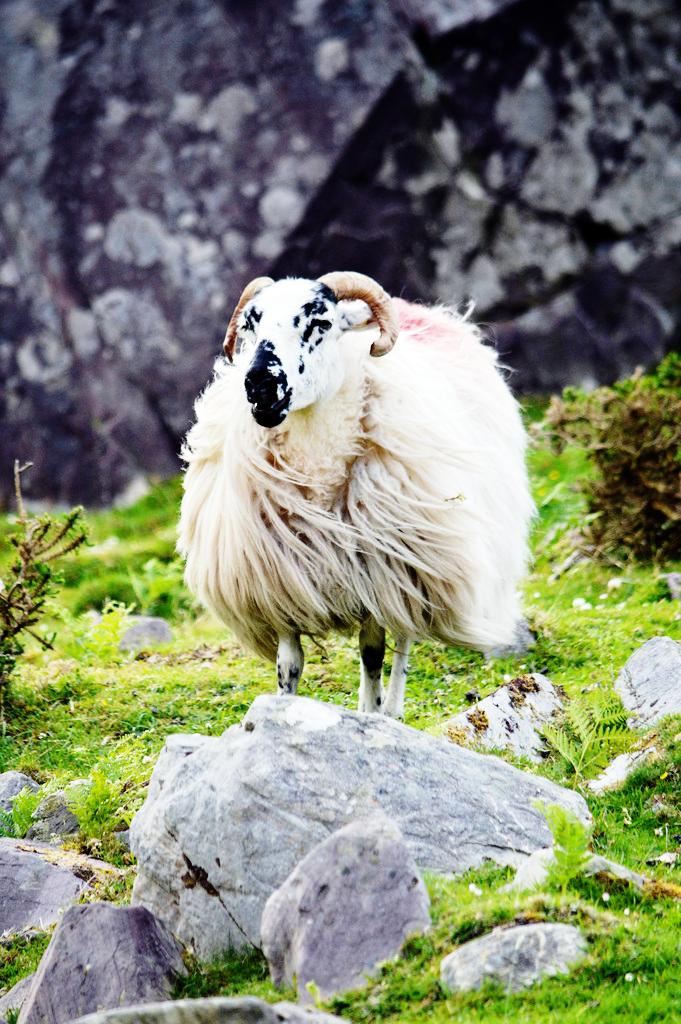Sheep: (175, 273, 540, 716)
